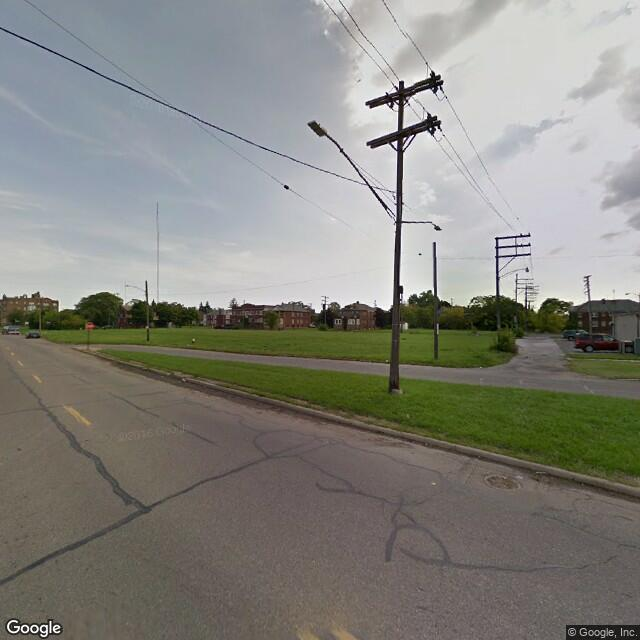litter: (478, 364, 487, 373), (430, 477, 436, 485), (180, 377, 188, 383), (383, 358, 389, 364)
